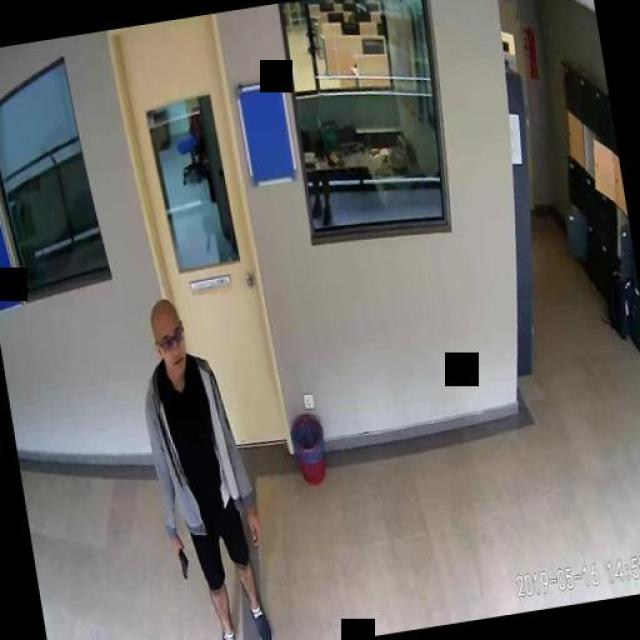gun: (171, 538, 189, 578)
